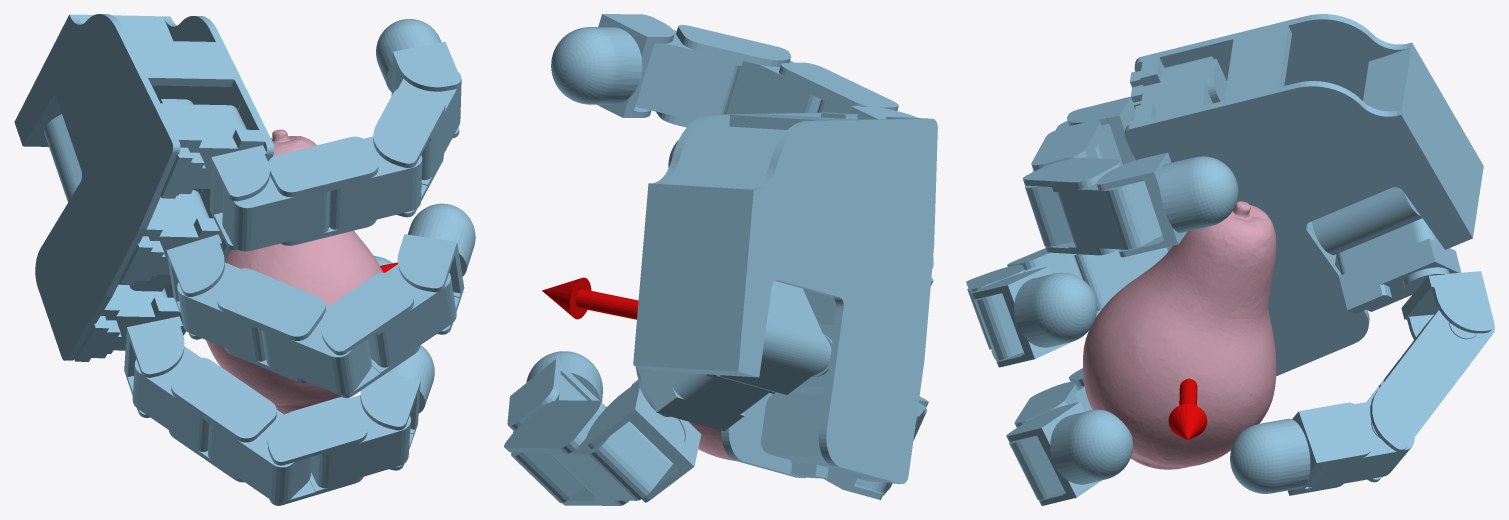
3 views of the same model, side by side, from view 1: azimuth 30°, elevation 25°; view 2: azimuth 150°, elevation 25°; view 3: azimuth 270°, elevation 25° (orthographic). The views are drawn at different scales.
Visible parts, largest first — view 1: world, pear.stl; view 2: world, pear.stl; view 3: world, pear.stl.
Part boxes in pixels (x1,y1,x2,y2): world: (14, 14, 475, 505); pear.stl: (206, 129, 383, 414); world: (504, 14, 937, 505); pear.stl: (635, 366, 735, 460); world: (966, 14, 1494, 505); pear.stl: (1083, 201, 1276, 469).
Bounding box in the file's own units: 0.148 × 0.1611 × 0.1795.
